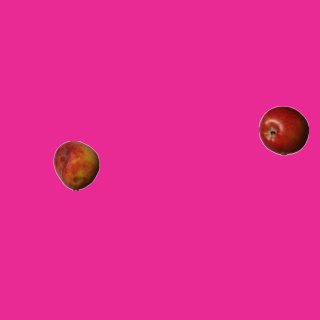Apple Braeburn: (258, 105, 308, 155)
Peach: (51, 140, 101, 190)
